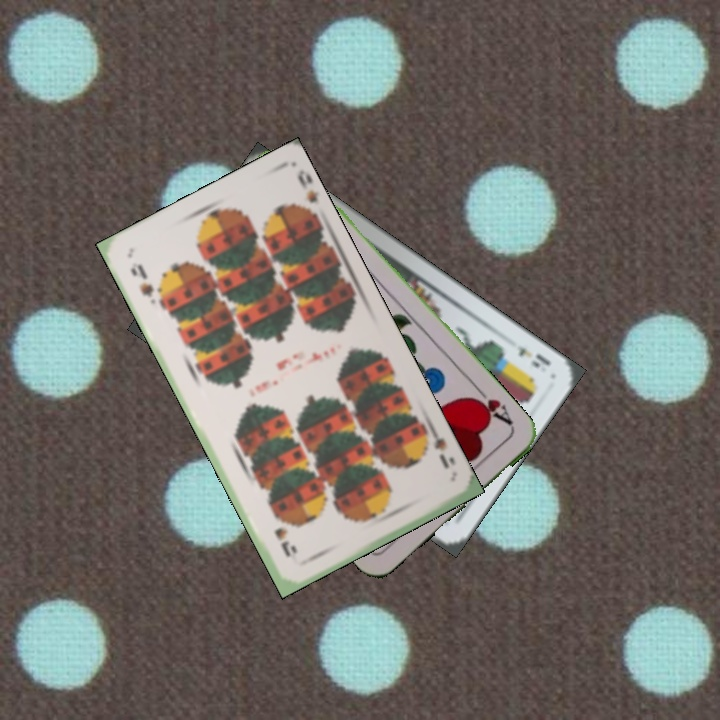EK: (505, 333, 553, 371)
HA: (466, 383, 516, 431)
S9: (416, 422, 458, 472), (126, 260, 156, 300)
